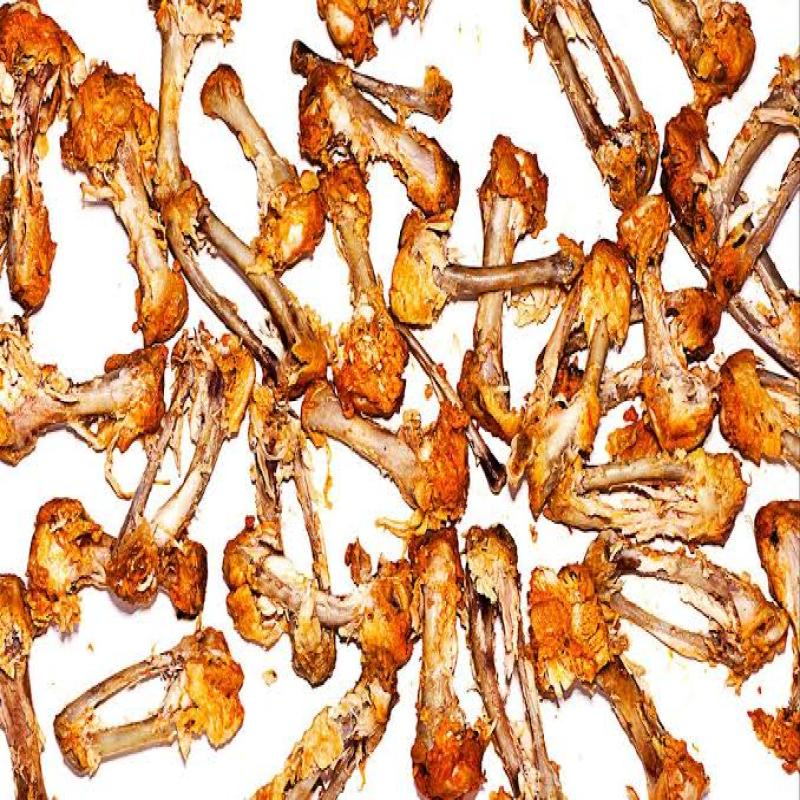left-over food: (105, 322, 255, 612), (529, 564, 708, 800), (156, 179, 339, 400), (60, 64, 189, 349), (584, 531, 788, 688), (222, 529, 417, 687), (519, 0, 660, 211), (53, 627, 246, 779), (464, 524, 565, 800), (616, 195, 721, 453), (201, 66, 327, 276), (299, 62, 459, 219), (0, 324, 166, 469), (27, 499, 205, 634), (301, 382, 470, 522), (389, 211, 585, 327), (250, 648, 399, 800), (321, 165, 408, 419), (411, 527, 487, 800), (146, 0, 243, 196), (638, 0, 756, 121), (748, 499, 800, 770), (0, 573, 48, 800), (720, 350, 800, 474)
